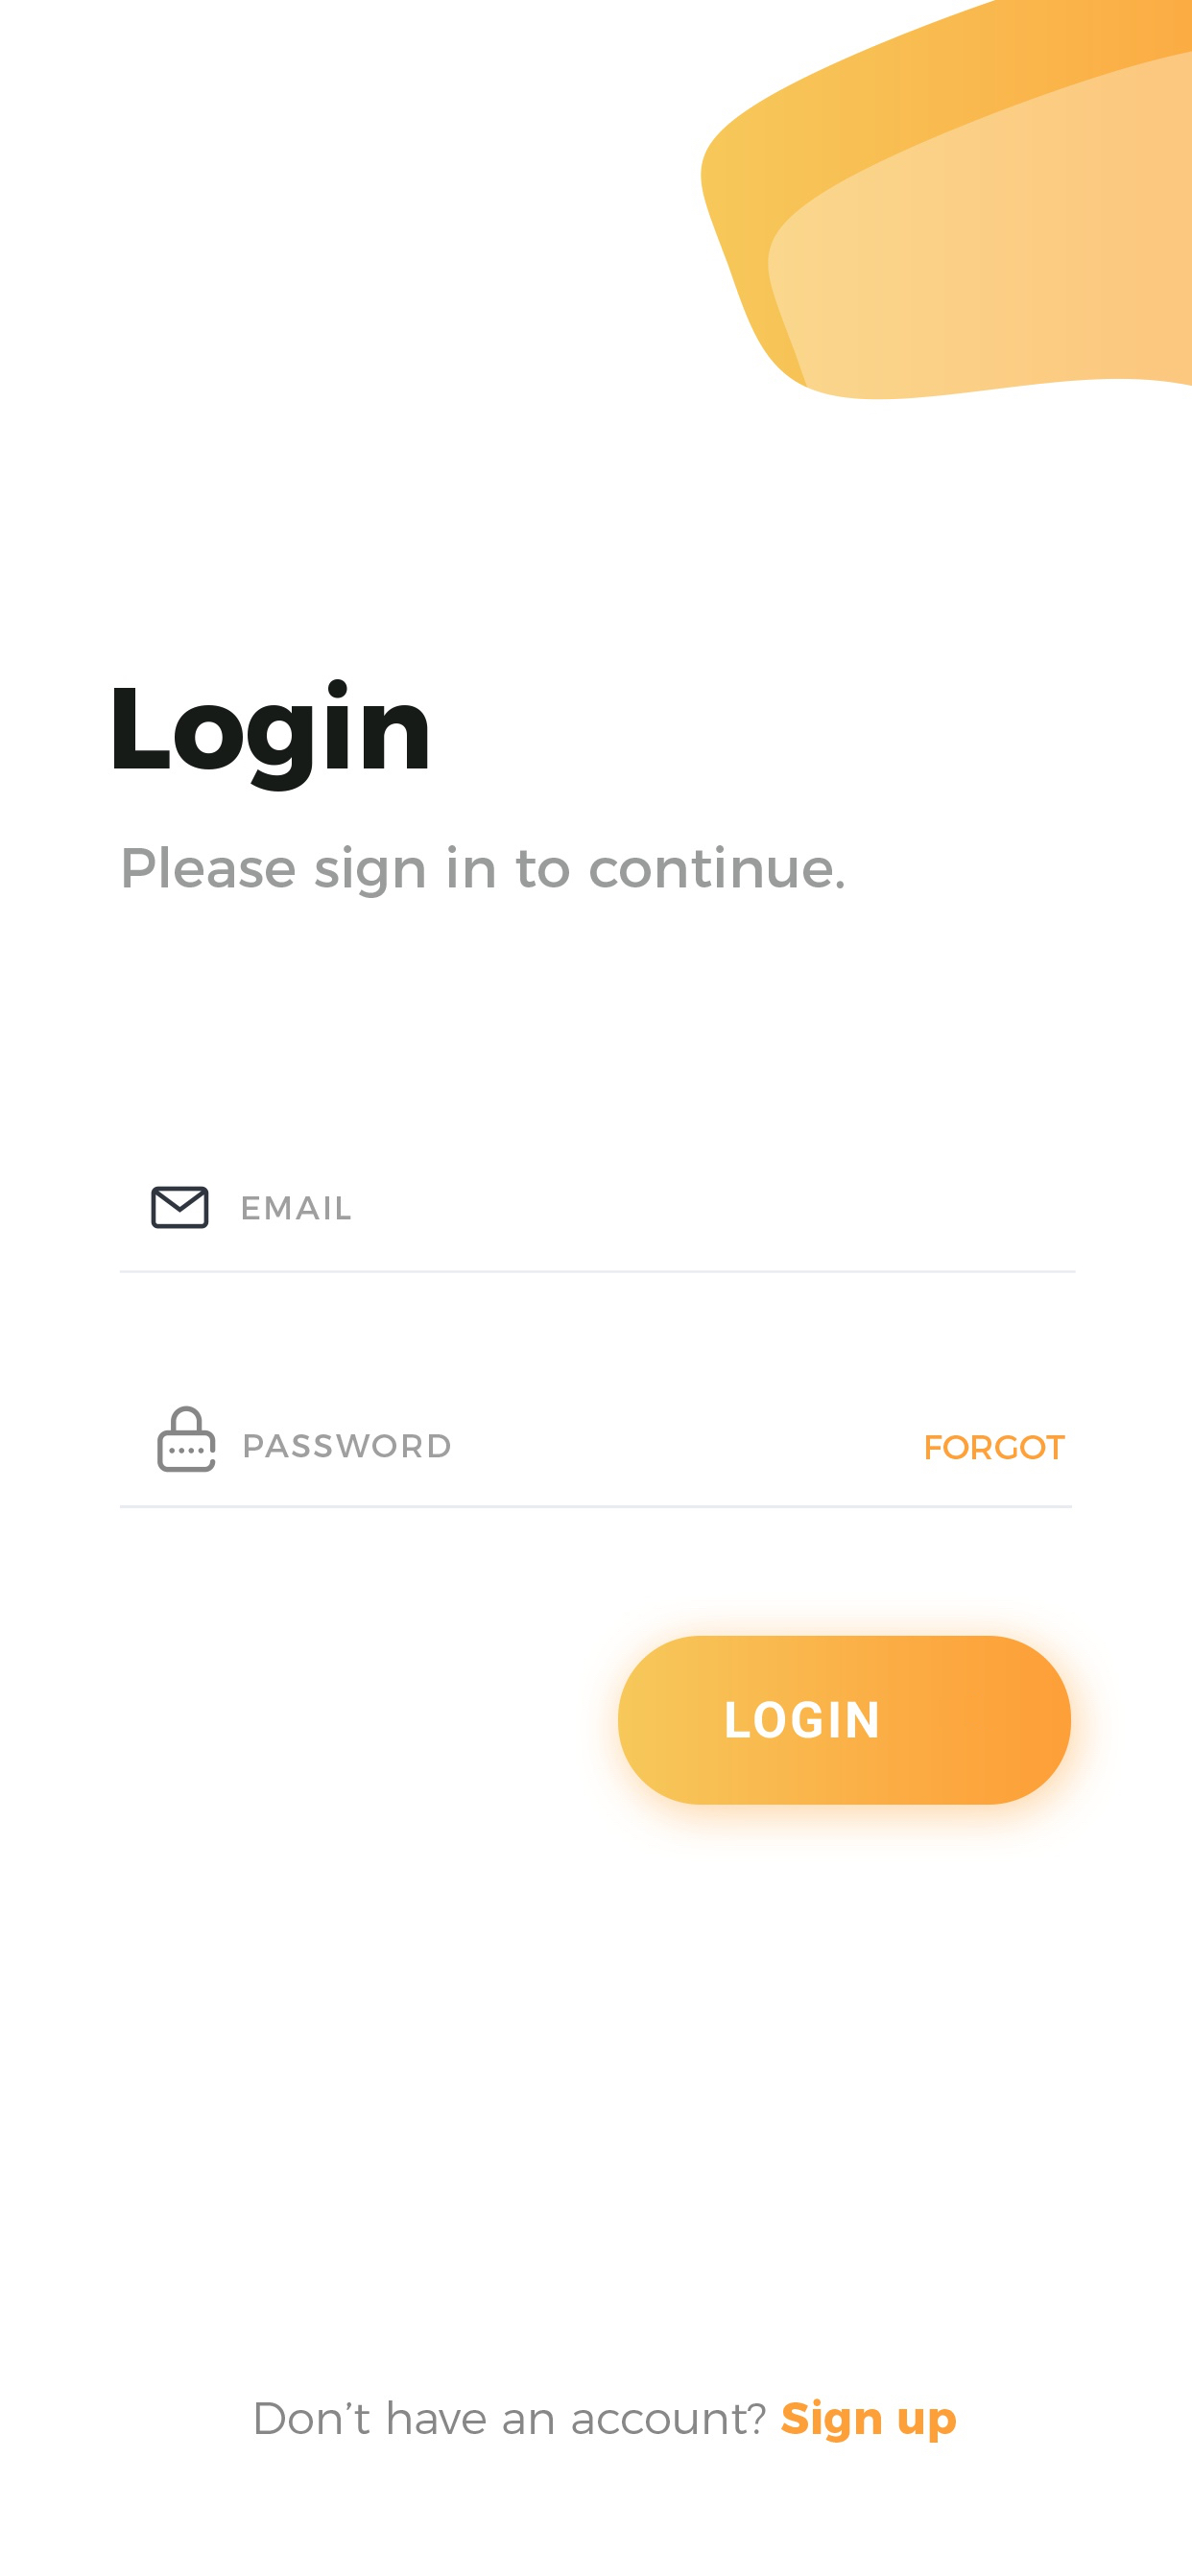EditText: (120, 1405, 1074, 1510), (118, 1184, 1077, 1275)
Icon: (158, 1406, 217, 1474), (151, 1186, 210, 1230)
Text: (123, 844, 845, 900), (113, 678, 431, 795), (255, 2397, 959, 2445), (243, 1433, 452, 1459), (926, 1434, 1067, 1460), (242, 1196, 352, 1221)
TextButton: (618, 1635, 1072, 1807)
